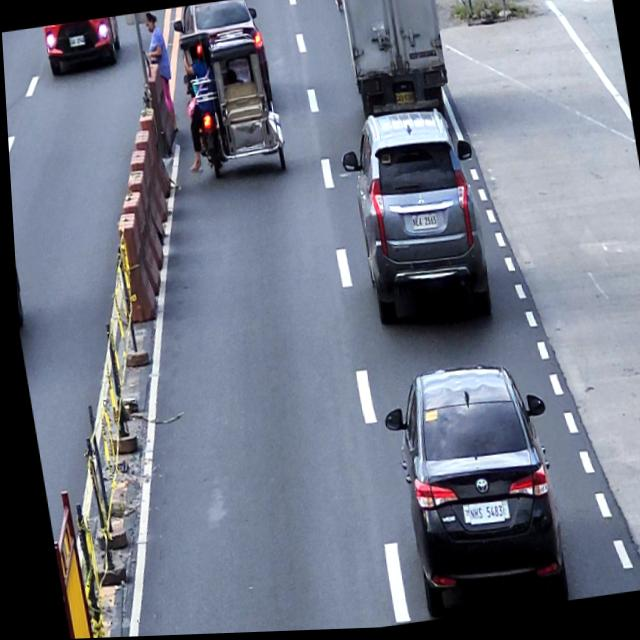Car: (371, 355, 570, 625), (333, 105, 497, 345), (41, 16, 126, 83)
License-Plate: (460, 502, 498, 529), (407, 213, 435, 234), (392, 93, 415, 108), (67, 35, 84, 47)
Tricycle: (170, 23, 287, 187)
Truck: (339, 0, 455, 133)
